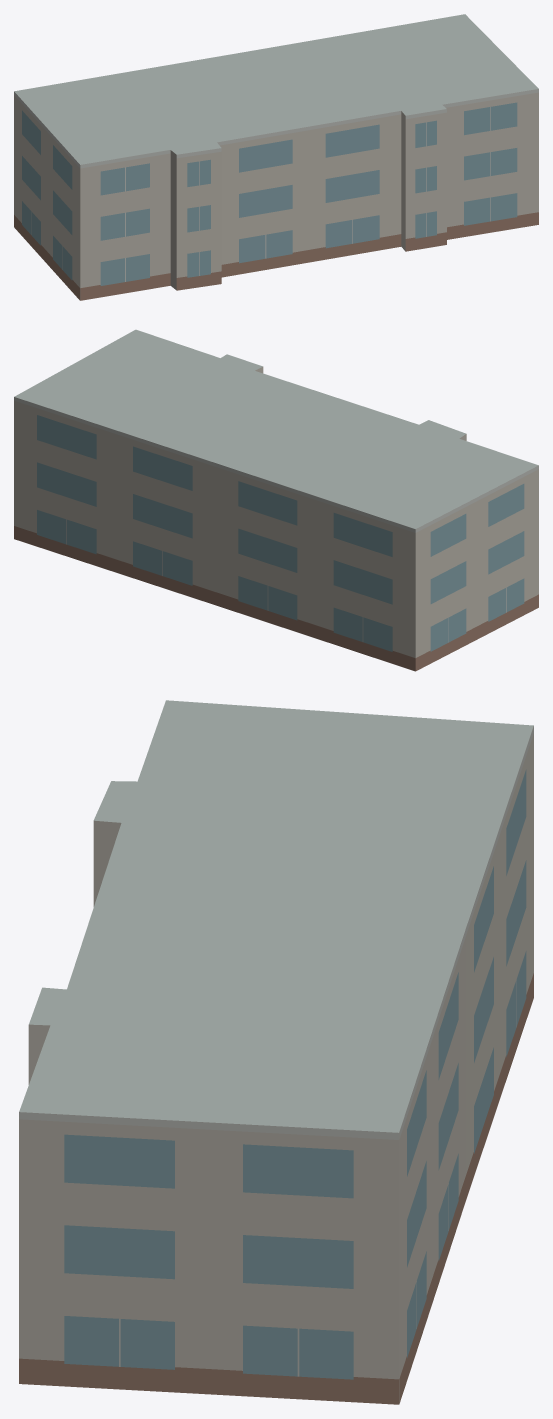
File: survey-upis-32676483.glb
3 views of the same model, one above another, from view 1: azimuth 30°, elevation 25°; view 2: azimuth 150°, elevation 25°; view 3: azimuth 270°, elevation 25° (orthographic). The views are drawn at different scales.
Visible parts, largest first — view 1: survey-upis-32676483.tmp; view 2: survey-upis-32676483.tmp; view 3: survey-upis-32676483.tmp.
Boxes of the visible parts, bbox=[...] form: survey-upis-32676483.tmp: bbox=[14, 14, 538, 300]; survey-upis-32676483.tmp: bbox=[14, 329, 538, 671]; survey-upis-32676483.tmp: bbox=[19, 700, 533, 1404].
Size of the model in its own units: 31.24 by 9.15 by 15.72.
